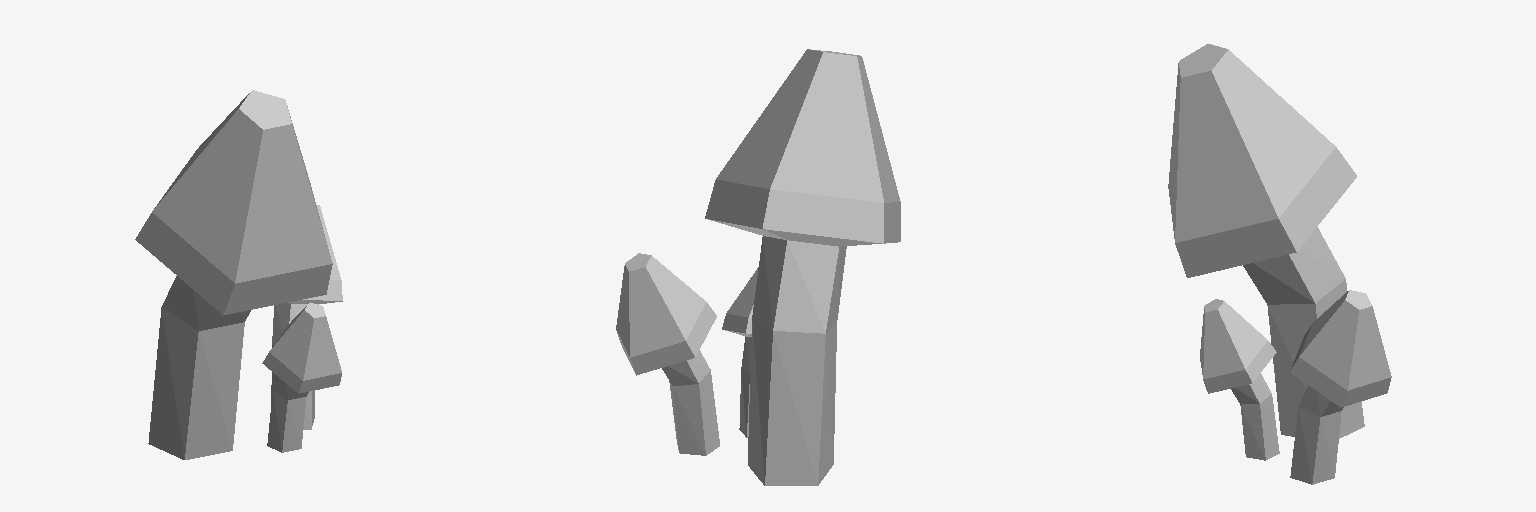
File: prop_v2_9.obj
The picture shows the model from 3 angles: view 1: azimuth 30°, elevation 25°; view 2: azimuth 150°, elevation 25°; view 3: azimuth 270°, elevation 25°; orthographic projection.
Visible parts, largest first — view 1: prop_v2_9_Cylinder.002; view 2: prop_v2_9_Cylinder.002; view 3: prop_v2_9_Cylinder.002.
Boxes of the visible parts, box(x1,y1,x2,y2) form: prop_v2_9_Cylinder.002: box(135, 90, 342, 459); prop_v2_9_Cylinder.002: box(616, 49, 900, 485); prop_v2_9_Cylinder.002: box(1168, 44, 1391, 484).
Bounding box in the file's own units: 0.1989 × 0.3092 × 0.1629.